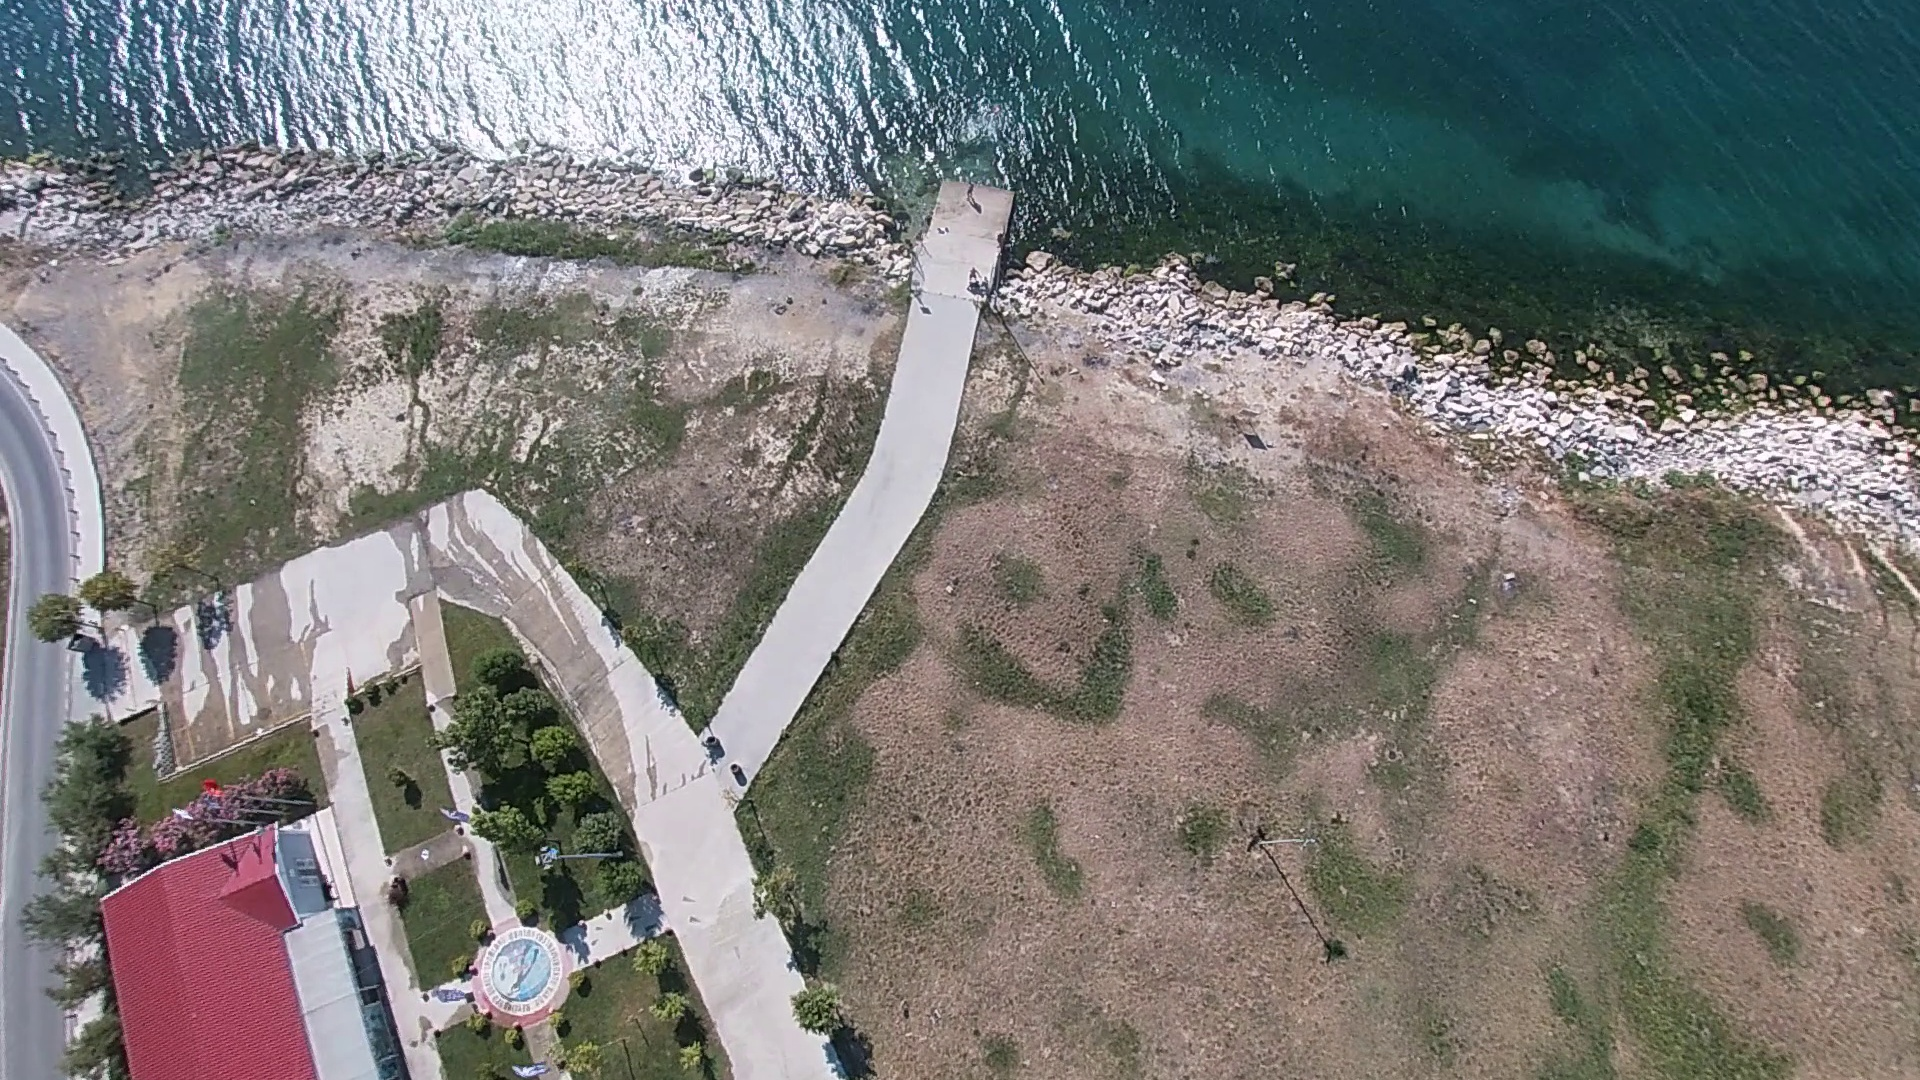insan: (967, 172, 987, 212), (965, 261, 983, 289)
